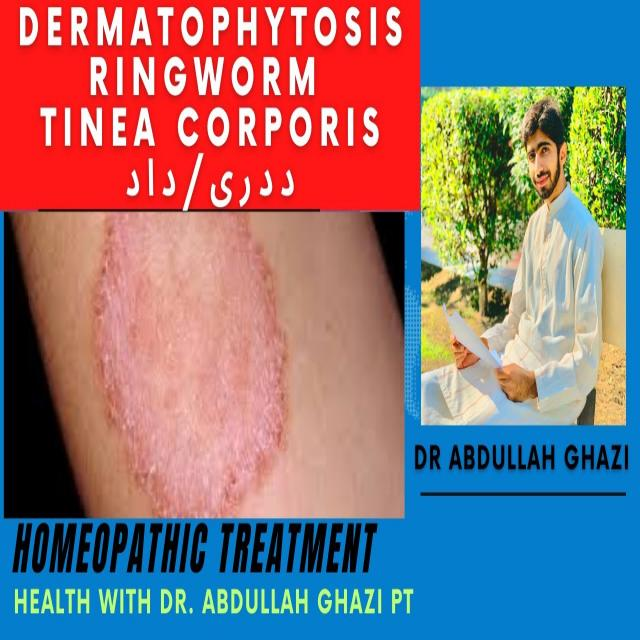tinea: (97, 225, 284, 500)
